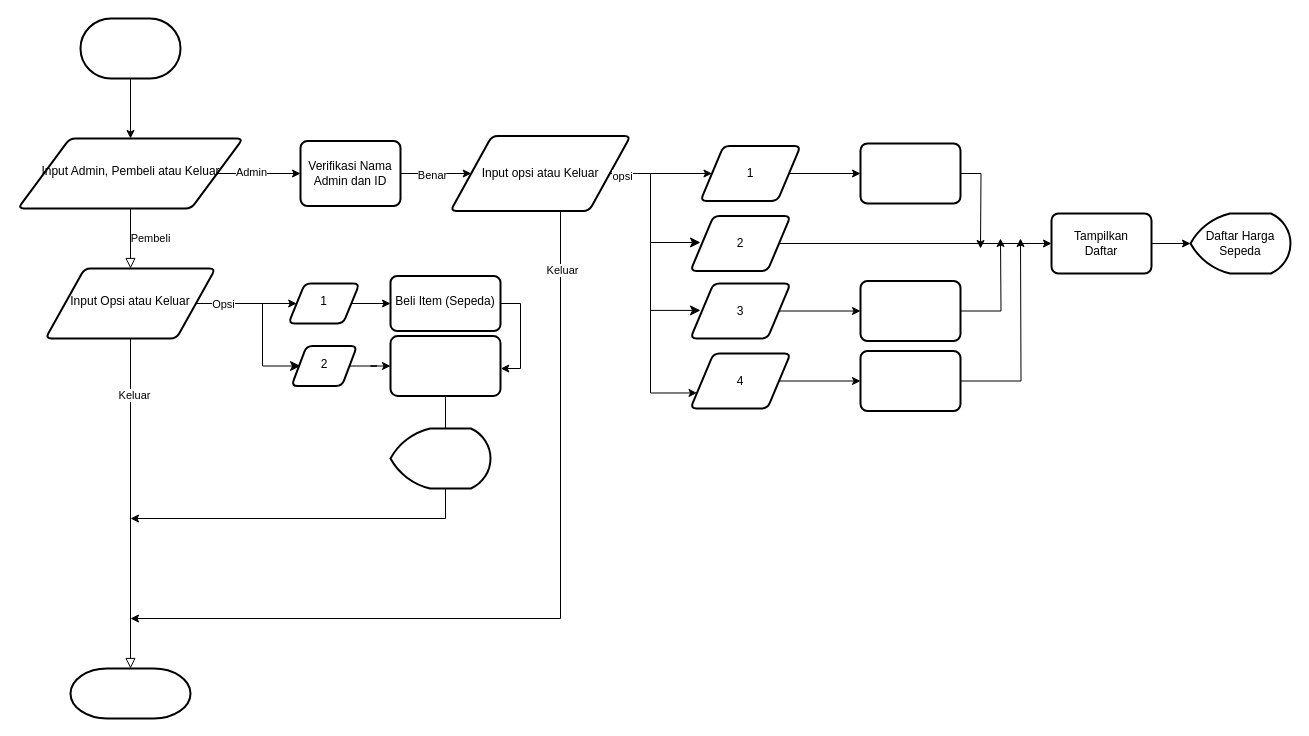
The diagram is 1309 pixels wide and 736 high, and some of its shapes have lost their labels. Here are the shapes that lost their labels. From the top down, the centre of each, then its label:
the point at 130,48: Mulai
the point at 910,173: Tambah Item
the point at 910,311: Perbarui Item
the point at 445,365: Keranjang Belanja
the point at 910,381: Hapus Item
the point at 440,458: Isi Keranjang Belanja
the point at 130,693: Selesai
